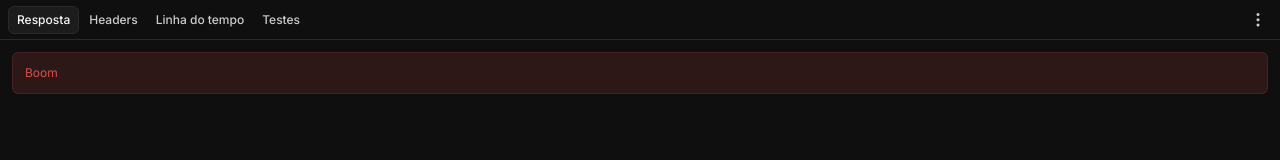
Test: ResponsePane › says there are no tests when the request has no assertions
The image size is (1280, 160).
Expected: the message reads "Boom", [25,65,58,80]
Click the tab "Testes".
click(281, 20)  # box [254,6,308,34]
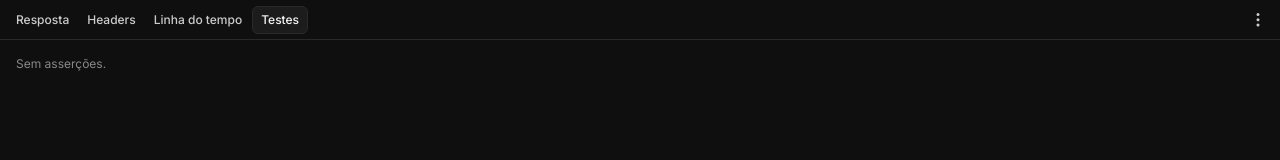
Now the list item "Sem asserções." is shown, box [16,56,106,71]
